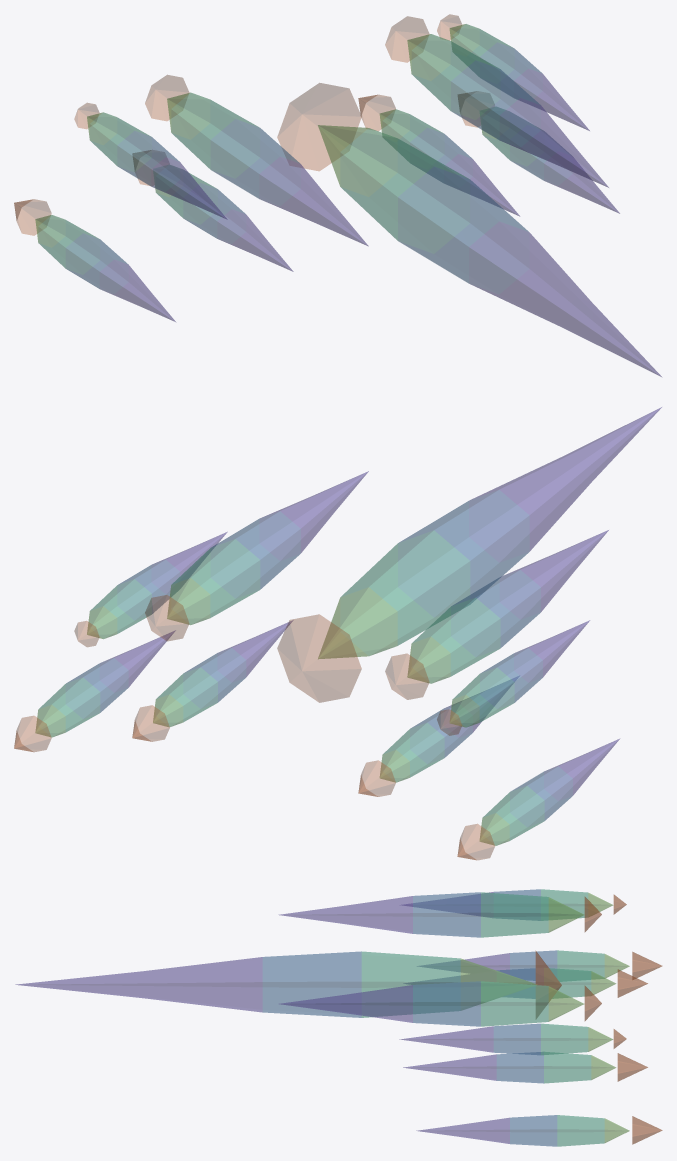
Rendered from Bunner_UH001NG.obj.
3 renders of one model, top to bottom at view 1: azimuth 30°, elevation 25°; view 2: azimuth 150°, elevation 25°; view 3: azimuth 270°, elevation 25°, orthographic. The views are drawn at different scales.
Parts seen in each view (by area): view 1: ShapeIndexedFaceSet.040_ShapeIndexedFaceSet.041, ShapeIndexedFaceSet.041_ShapeIndexedFaceSet.042, ShapeIndexedFaceSet.039_ShapeIndexedFaceSet.040, ShapeIndexedFaceSet.042_ShapeIndexedFaceSet.043, ShapeIndexedFaceSet.043_ShapeIndexedFaceSet.044; view 2: ShapeIndexedFaceSet.040_ShapeIndexedFaceSet.041, ShapeIndexedFaceSet.041_ShapeIndexedFaceSet.042, ShapeIndexedFaceSet.039_ShapeIndexedFaceSet.040, ShapeIndexedFaceSet.043_ShapeIndexedFaceSet.044, ShapeIndexedFaceSet.042_ShapeIndexedFaceSet.043; view 3: ShapeIndexedFaceSet.040_ShapeIndexedFaceSet.041, ShapeIndexedFaceSet.041_ShapeIndexedFaceSet.042, ShapeIndexedFaceSet.039_ShapeIndexedFaceSet.040, ShapeIndexedFaceSet.042_ShapeIndexedFaceSet.043, ShapeIndexedFaceSet.043_ShapeIndexedFaceSet.044.
Part boxes in pixels (box(x1,y1,x2,y2)): ShapeIndexedFaceSet.040_ShapeIndexedFaceSet.041: box(66, 42, 572, 293); ShapeIndexedFaceSet.041_ShapeIndexedFaceSet.042: box(38, 24, 541, 274); ShapeIndexedFaceSet.039_ShapeIndexedFaceSet.040: box(100, 69, 661, 376); ShapeIndexedFaceSet.042_ShapeIndexedFaceSet.043: box(35, 24, 496, 247); ShapeIndexedFaceSet.043_ShapeIndexedFaceSet.044: box(14, 14, 477, 235); ShapeIndexedFaceSet.040_ShapeIndexedFaceSet.041: box(66, 490, 572, 826); ShapeIndexedFaceSet.041_ShapeIndexedFaceSet.042: box(38, 530, 544, 845); ShapeIndexedFaceSet.039_ShapeIndexedFaceSet.040: box(100, 407, 661, 800); ShapeIndexedFaceSet.043_ShapeIndexedFaceSet.044: box(14, 595, 494, 860); ShapeIndexedFaceSet.042_ShapeIndexedFaceSet.043: box(35, 578, 509, 845); ShapeIndexedFaceSet.040_ShapeIndexedFaceSet.041: box(262, 889, 557, 1146); ShapeIndexedFaceSet.041_ShapeIndexedFaceSet.042: box(361, 889, 604, 1146); ShapeIndexedFaceSet.039_ShapeIndexedFaceSet.040: box(15, 892, 509, 1143); ShapeIndexedFaceSet.042_ShapeIndexedFaceSet.043: box(460, 893, 629, 1142); ShapeIndexedFaceSet.043_ShapeIndexedFaceSet.044: box(535, 895, 662, 1144).
Bounding box in the file's own units: 73.39 × 24.64 × 113.
